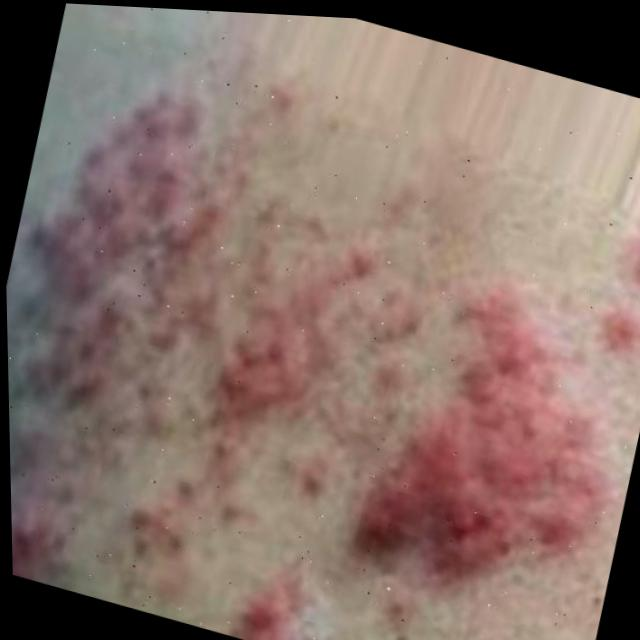Shingles: (1, 60, 367, 640), (346, 280, 640, 611), (261, 610, 333, 640)
